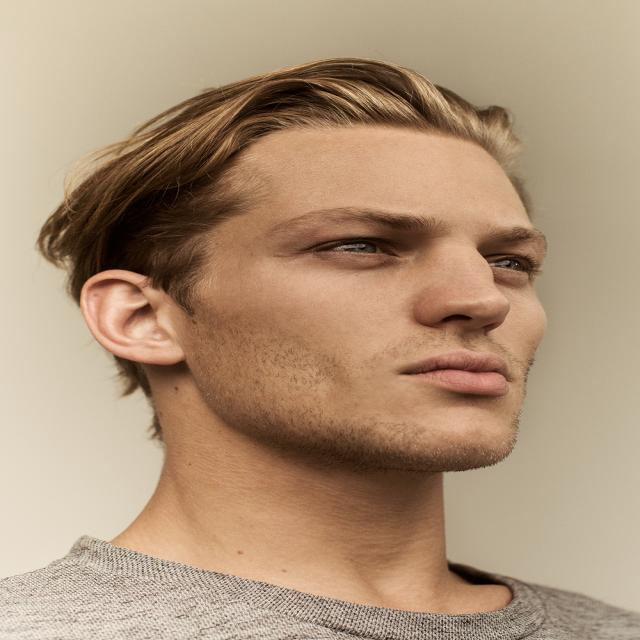front: (179, 173, 618, 433)
